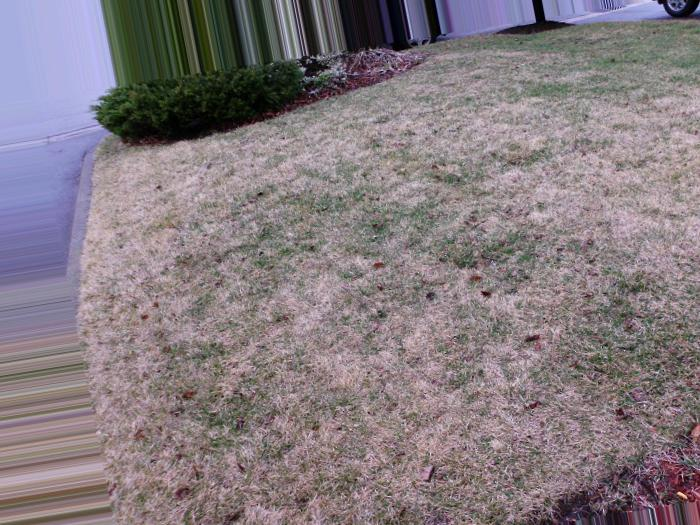patch: (324, 290, 465, 426), (120, 153, 236, 241), (120, 394, 202, 493), (95, 270, 172, 369), (328, 439, 480, 489), (565, 161, 664, 235), (426, 74, 516, 131), (231, 435, 307, 501), (491, 397, 570, 460), (618, 106, 681, 141), (253, 139, 290, 170)
